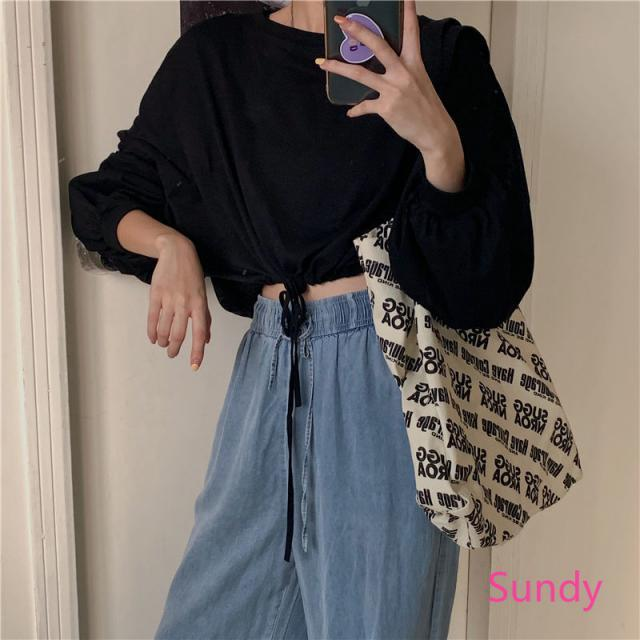Shirt: (69, 13, 538, 328)
